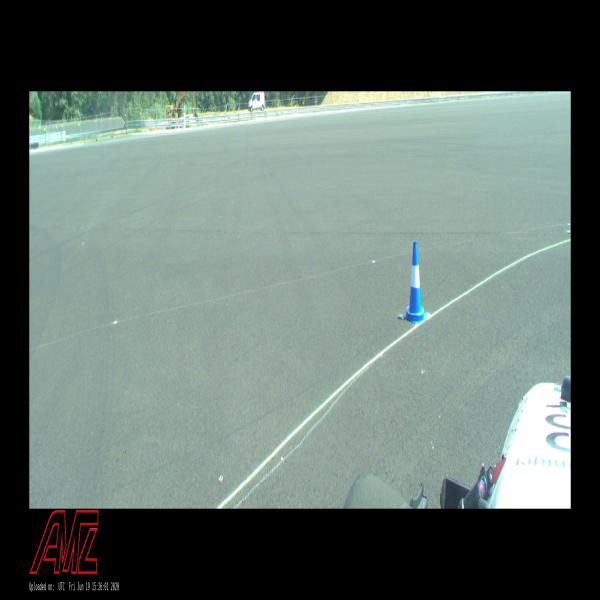blue_cone: (403, 241, 428, 324)
